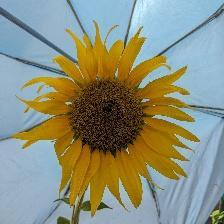sunflower: (12, 20, 203, 221)
